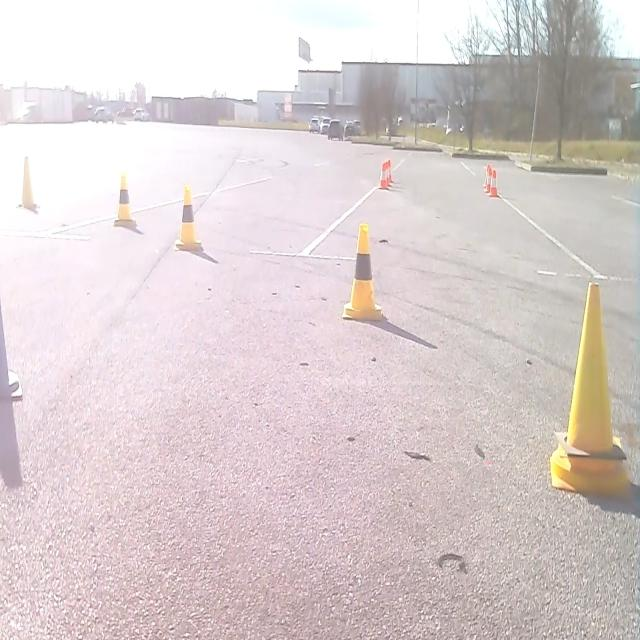orange_cone: (488, 167, 500, 197), (378, 160, 388, 189), (482, 162, 491, 192), (385, 157, 393, 184)
yellow_cone: (549, 279, 629, 494), (341, 221, 383, 322), (174, 183, 202, 251), (113, 170, 136, 228), (20, 154, 38, 212)
